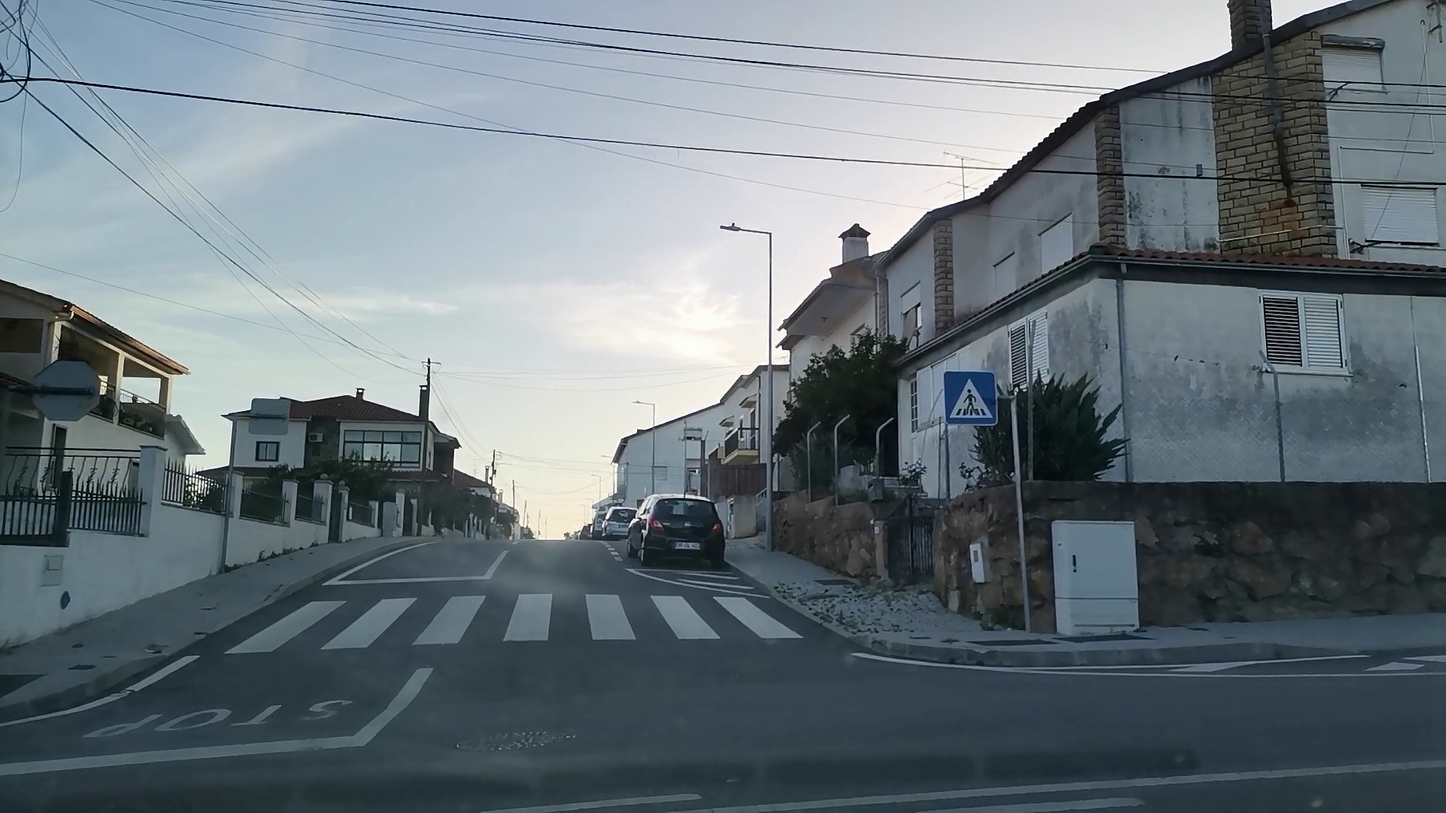Stairs: (223, 593, 798, 655)
